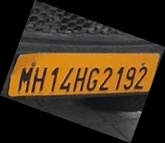character: (30, 65, 46, 92), (17, 66, 33, 92), (72, 66, 87, 92), (59, 67, 74, 92), (98, 66, 113, 91), (86, 66, 100, 92), (133, 65, 147, 90), (123, 66, 137, 89), (114, 66, 124, 90), (50, 66, 58, 92)
